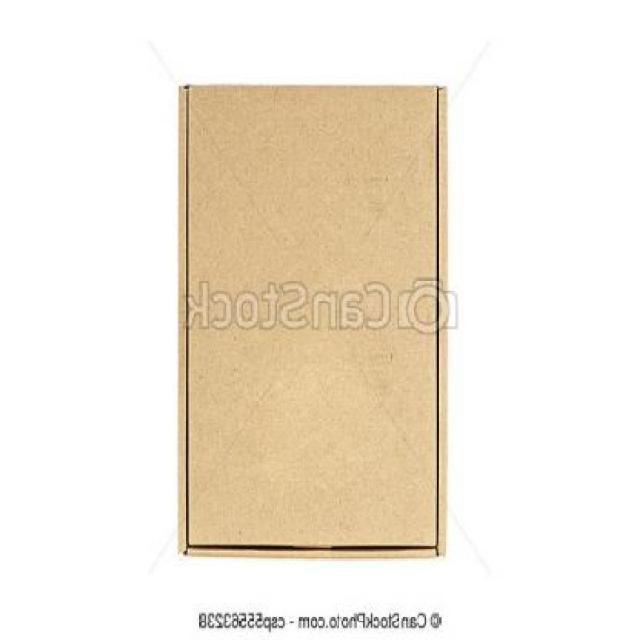cardboxes: (181, 87, 444, 555)
